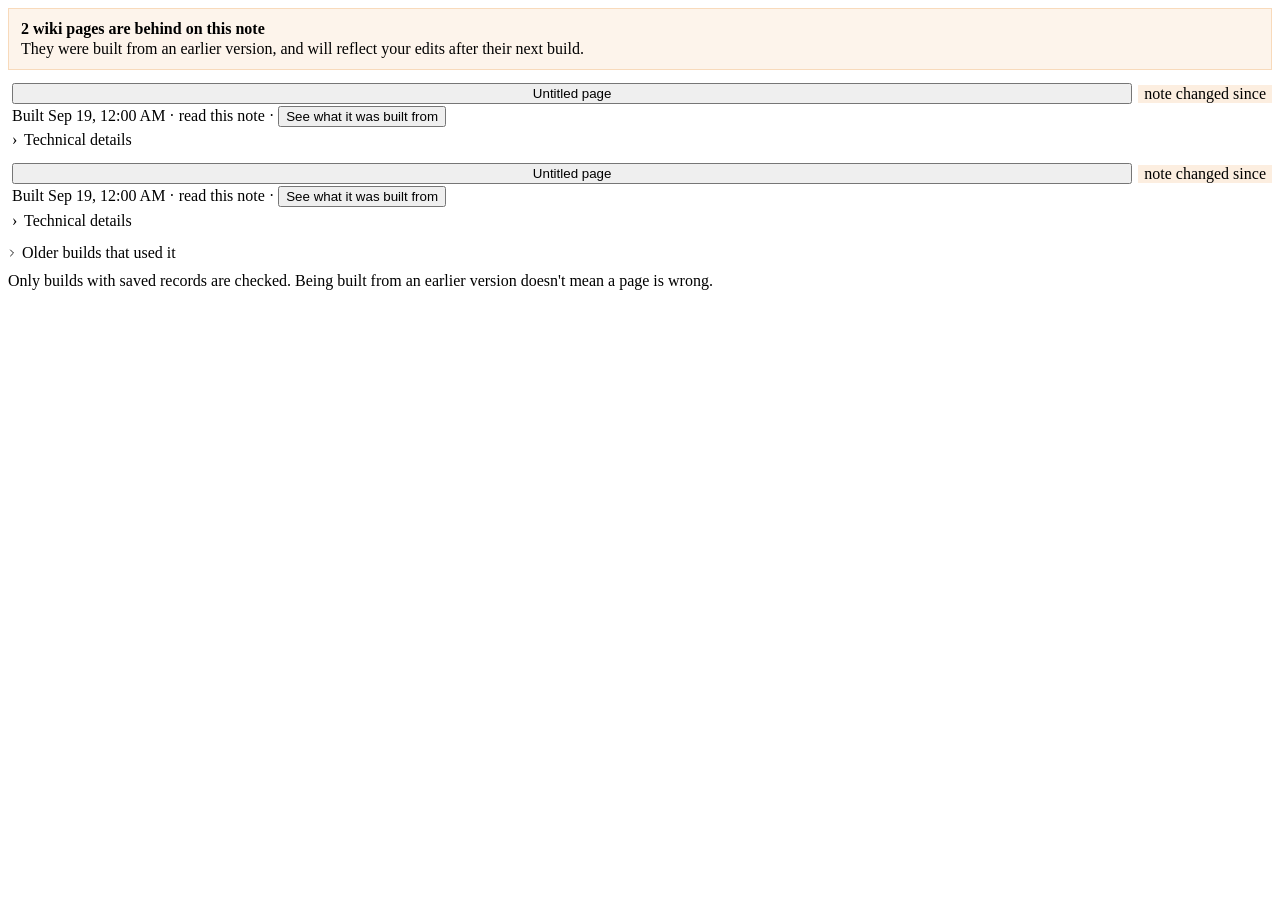
Test: keeps same-node revisions separate and keeps the raw node ID out of the title
The image size is (1280, 900).
Expected: the number of buttons "See what it was built from" is 2, [278,106,446,127]; [278,186,446,207]
Expected: the number of buttons "Untitled page" is 2, [12,83,1132,104]; [12,163,1132,184]
Click the 1st heading "Technical details": point(72, 140) [12,131,132,149]
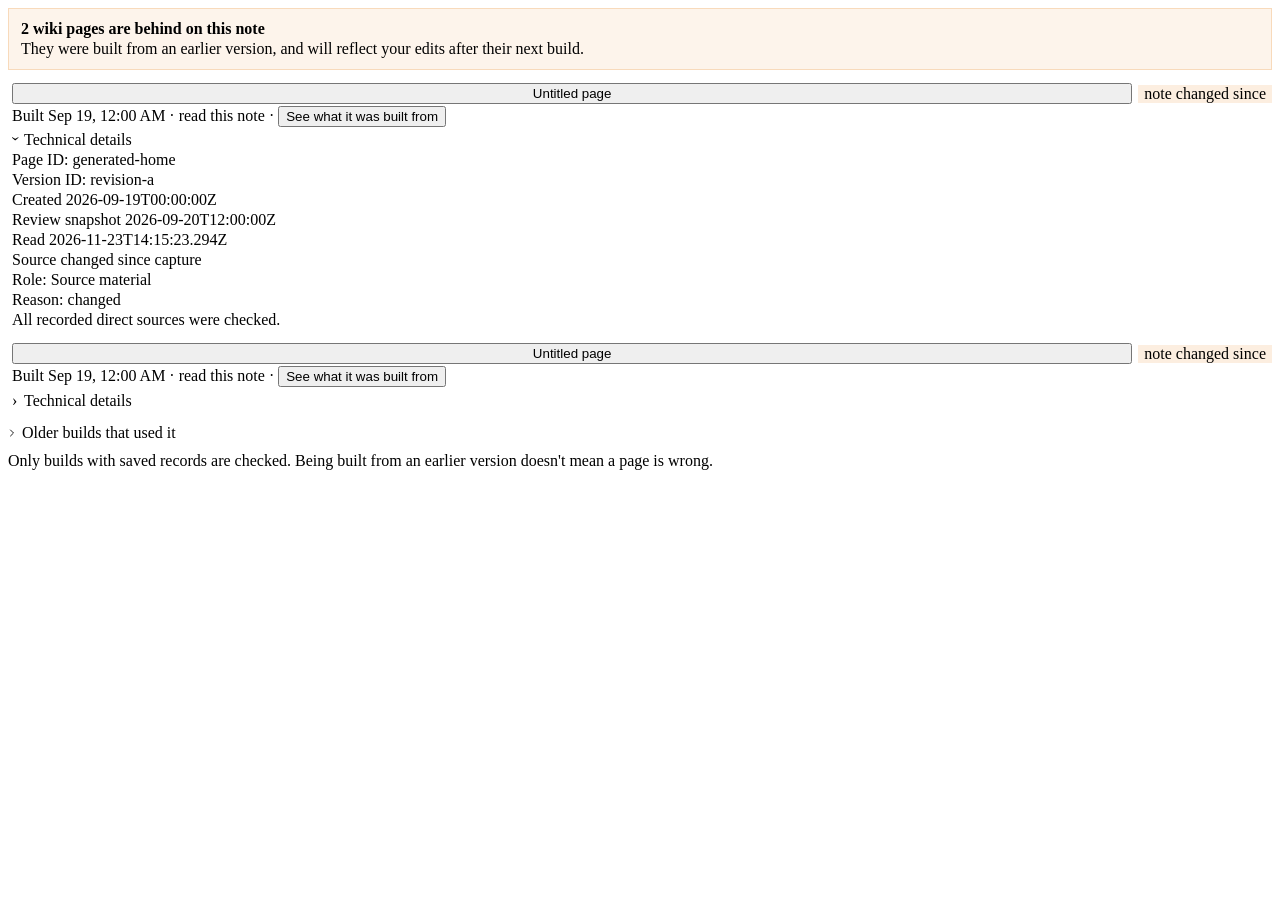
Click the 2nd heading "Technical details": point(72, 401) [12,392,132,410]
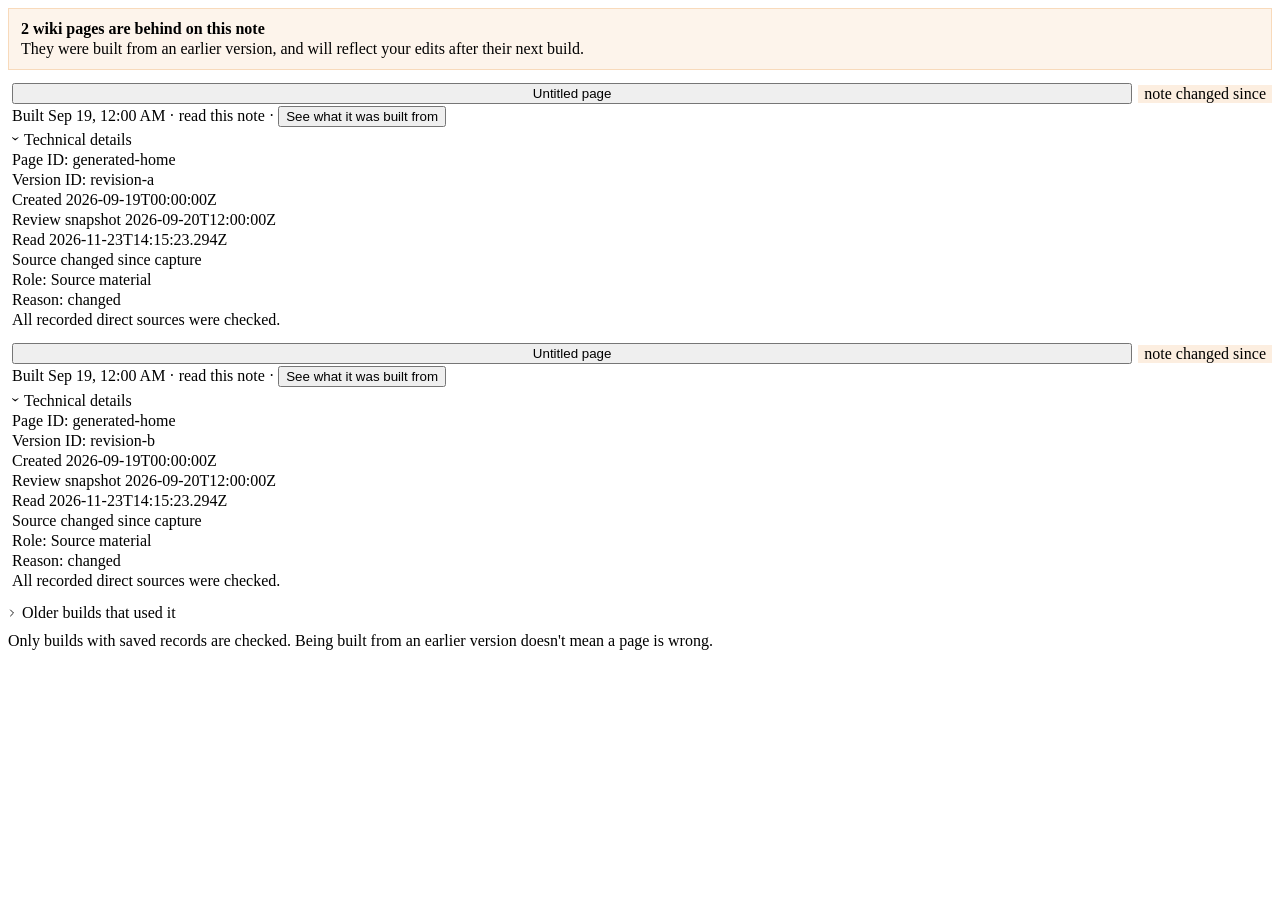
Now the text "Version ID: revision-a" is shown, box [12,171,154,188]
Now the text "Version ID: revision-b" is shown, box [12,432,155,449]
